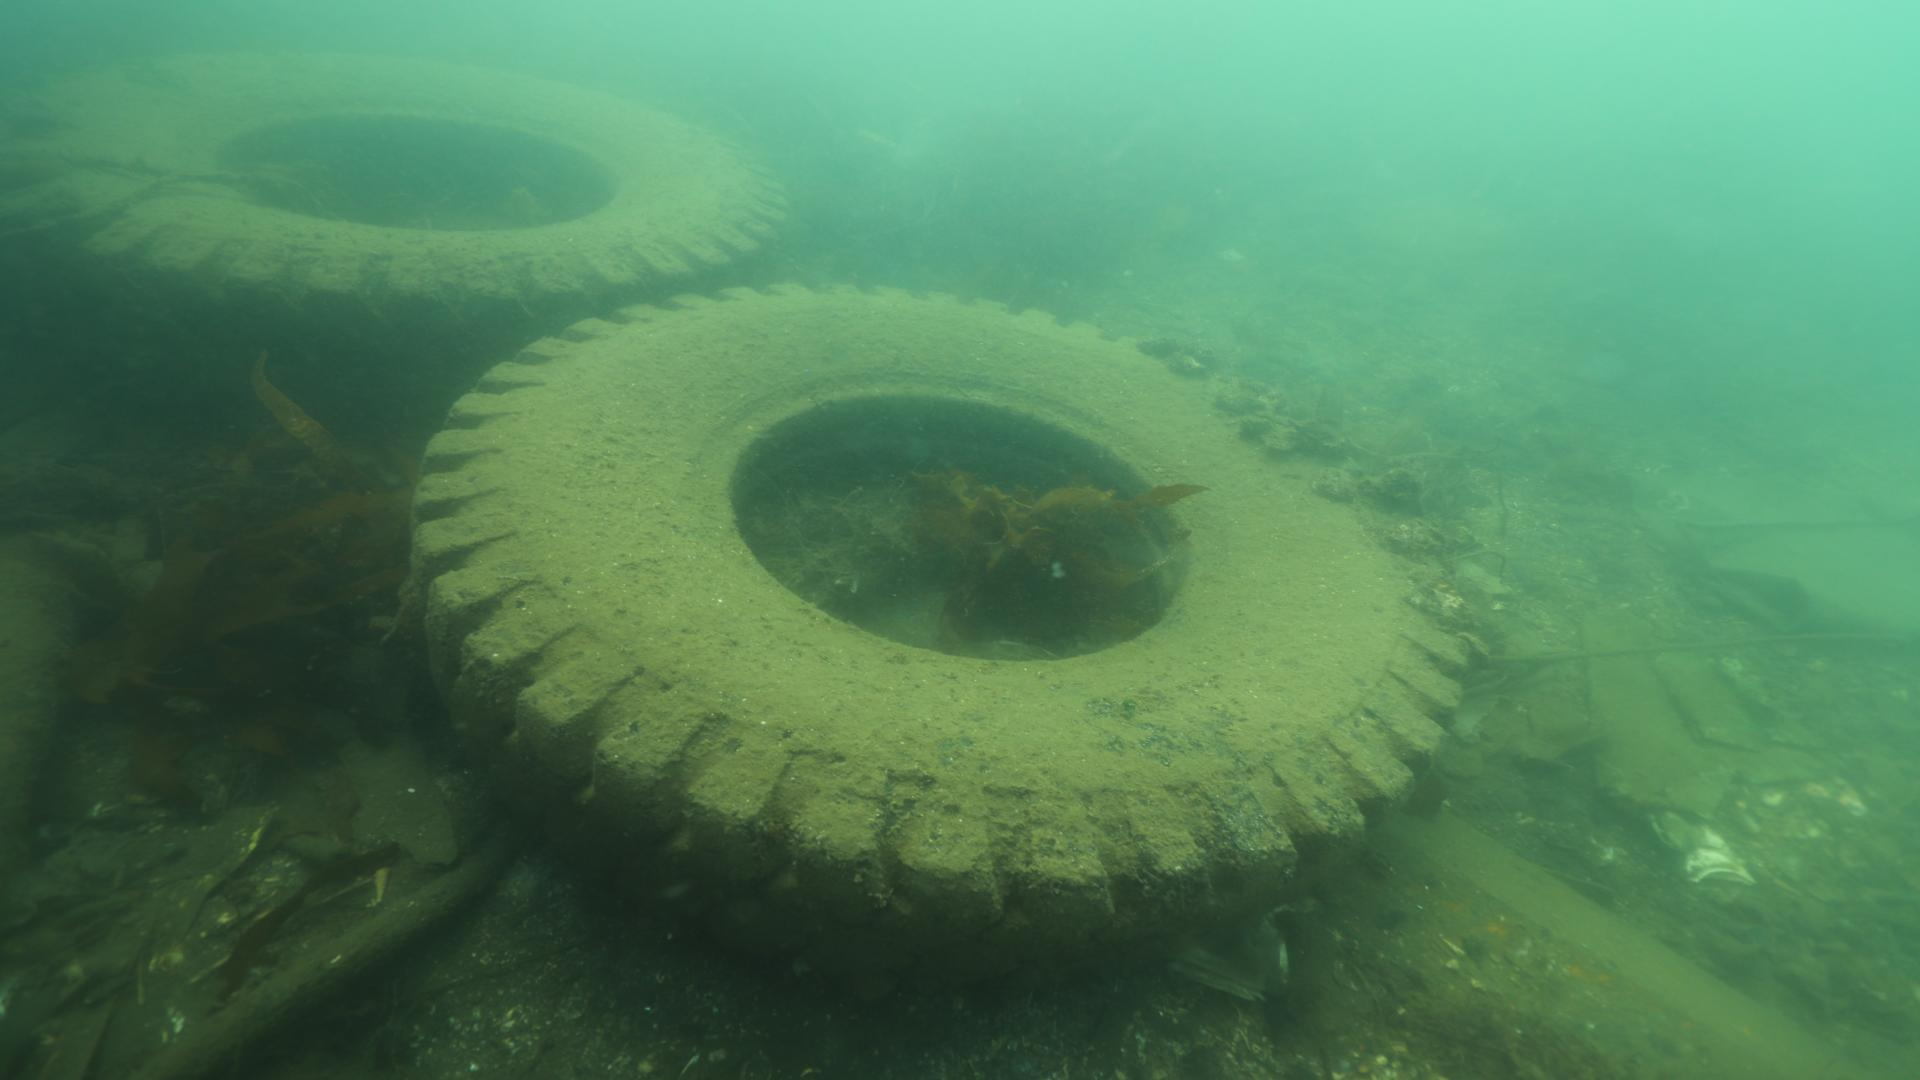tire: (407, 278, 1469, 990), (0, 50, 793, 418)
